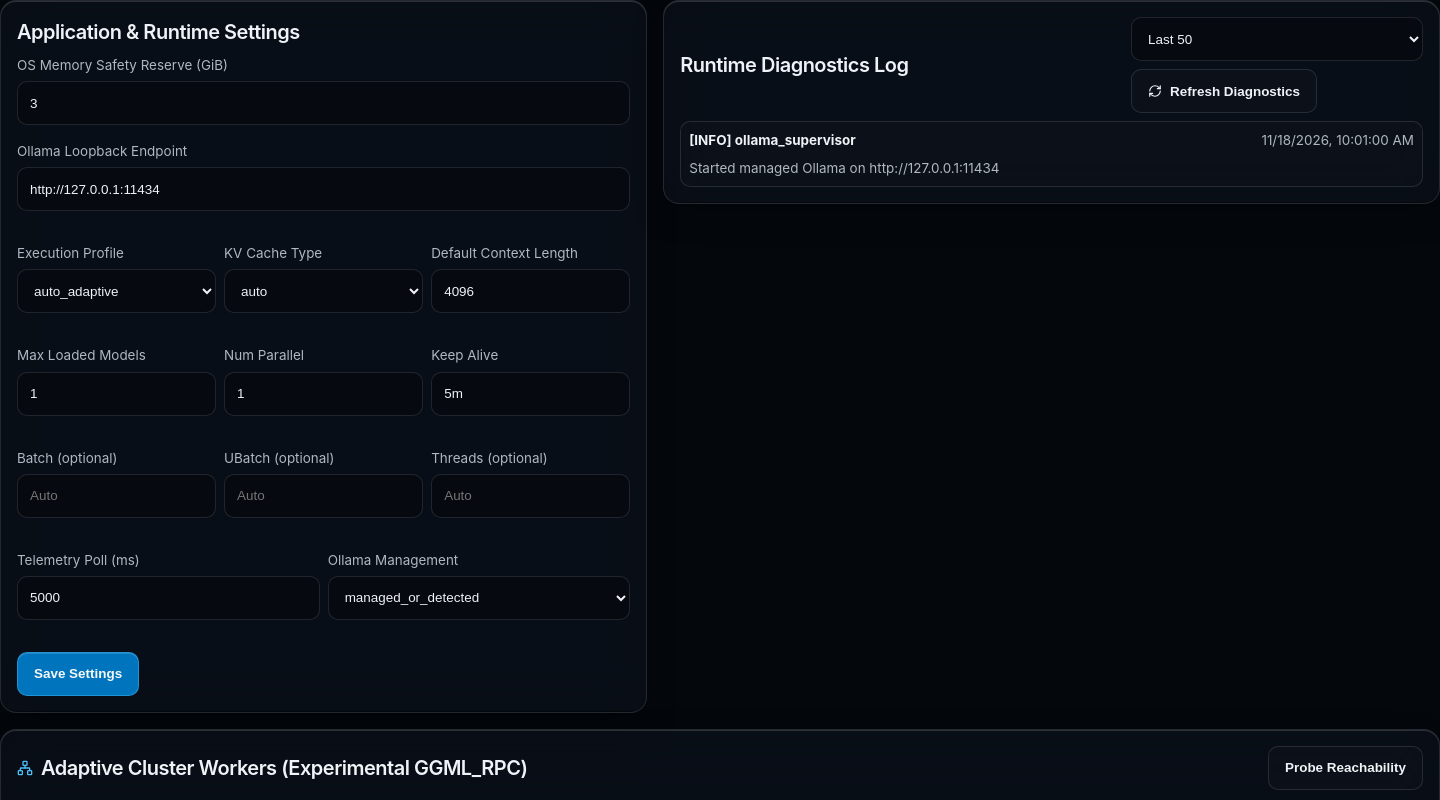
Test case: SettingsScreen › saves all 13 runtime settings, loads diagnostics with limit, and manages cluster workers
Later steps or results of the test are not shown.
Expected: the text "Started managed Ollama on http://127.0.0.1:11434" is shown, [689,160,1000,176]
Select "Last 100" in the dropdown named "Diagnostics limit" at (1277, 39), box [1131,17,1423,61]
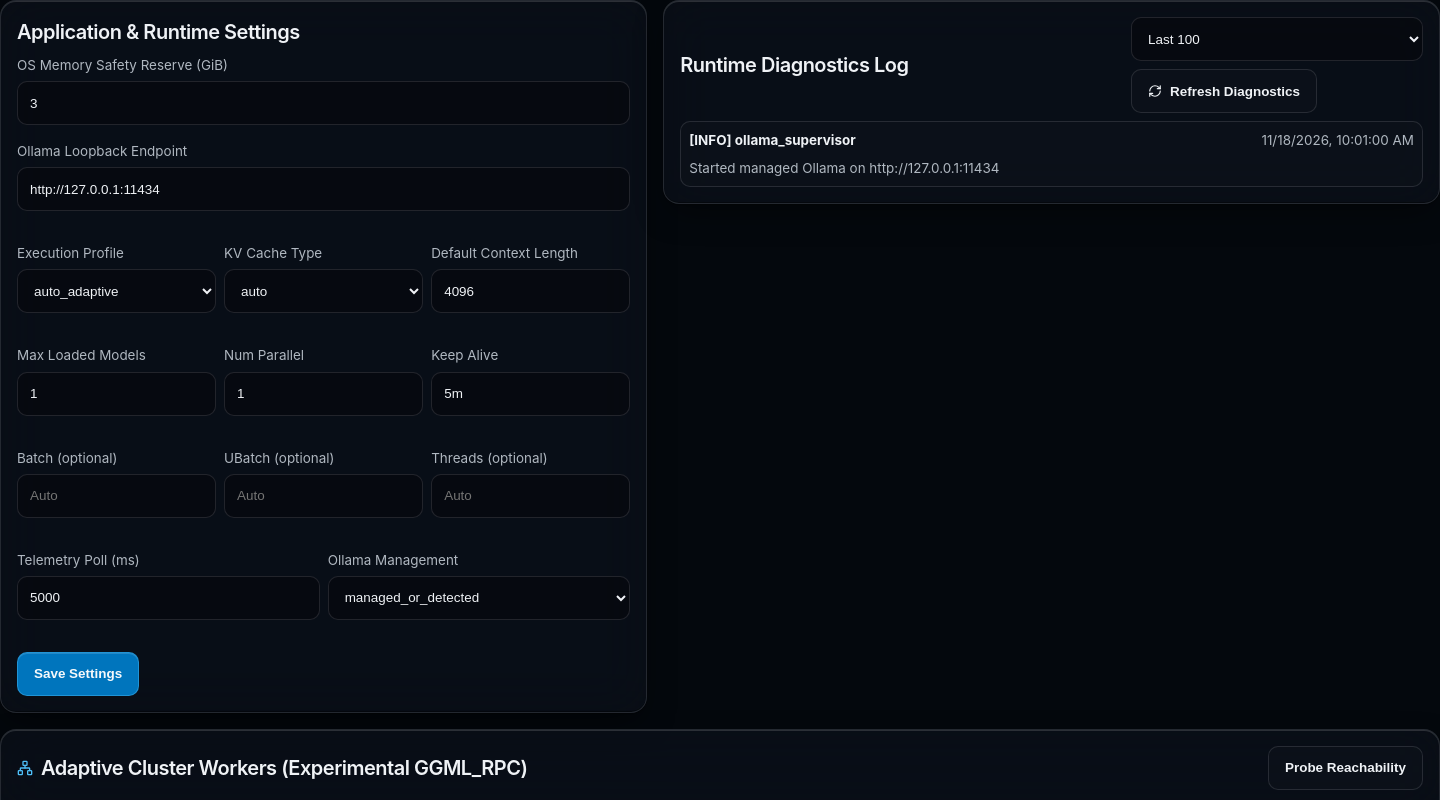
Replace the text in the number field labelled "OS Memory Safety Reserve (GiB)" with "4" at (324, 103), box [17,81,630,125]
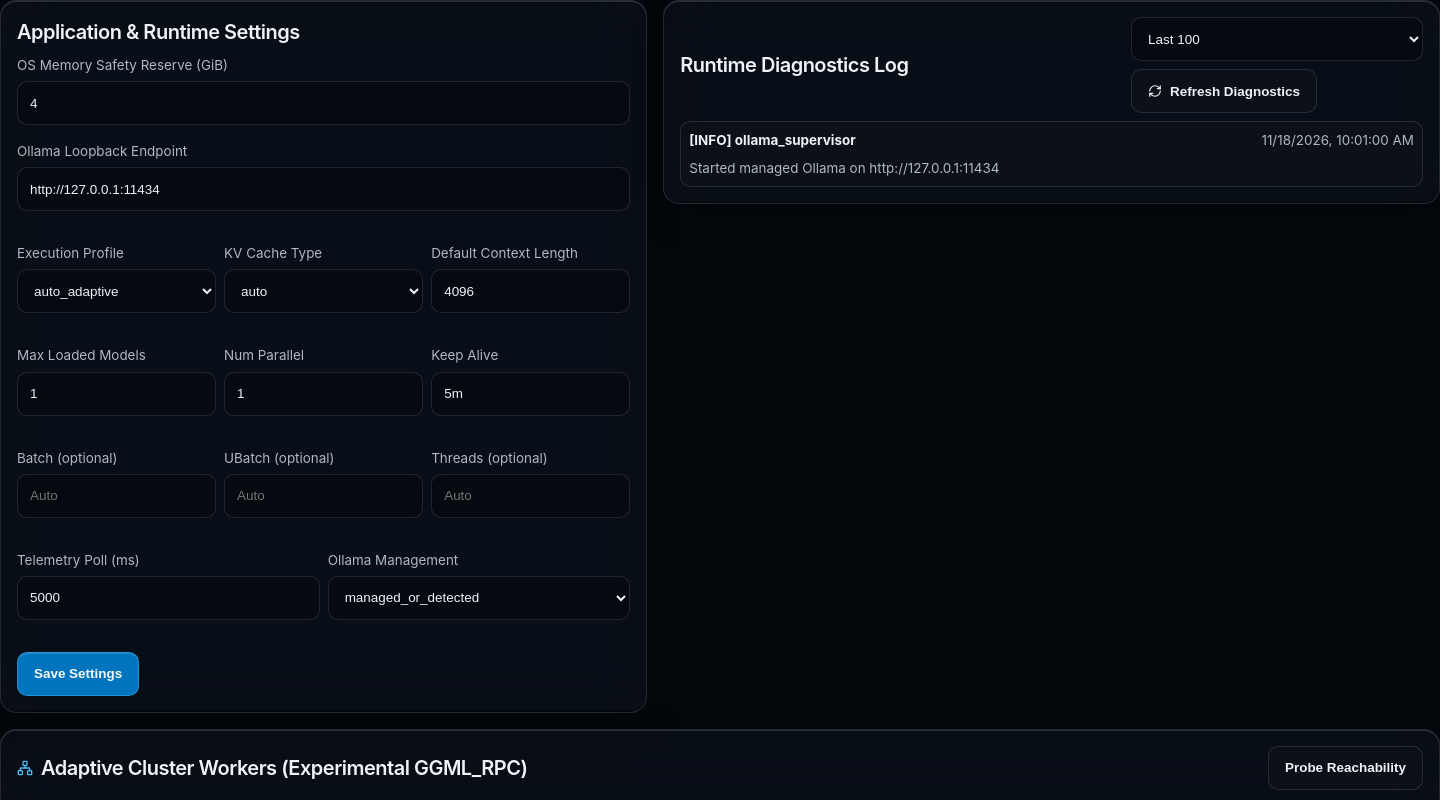
Click the button "Save Settings" at (78, 674), box [17,652,139,696]
(page scrolled)
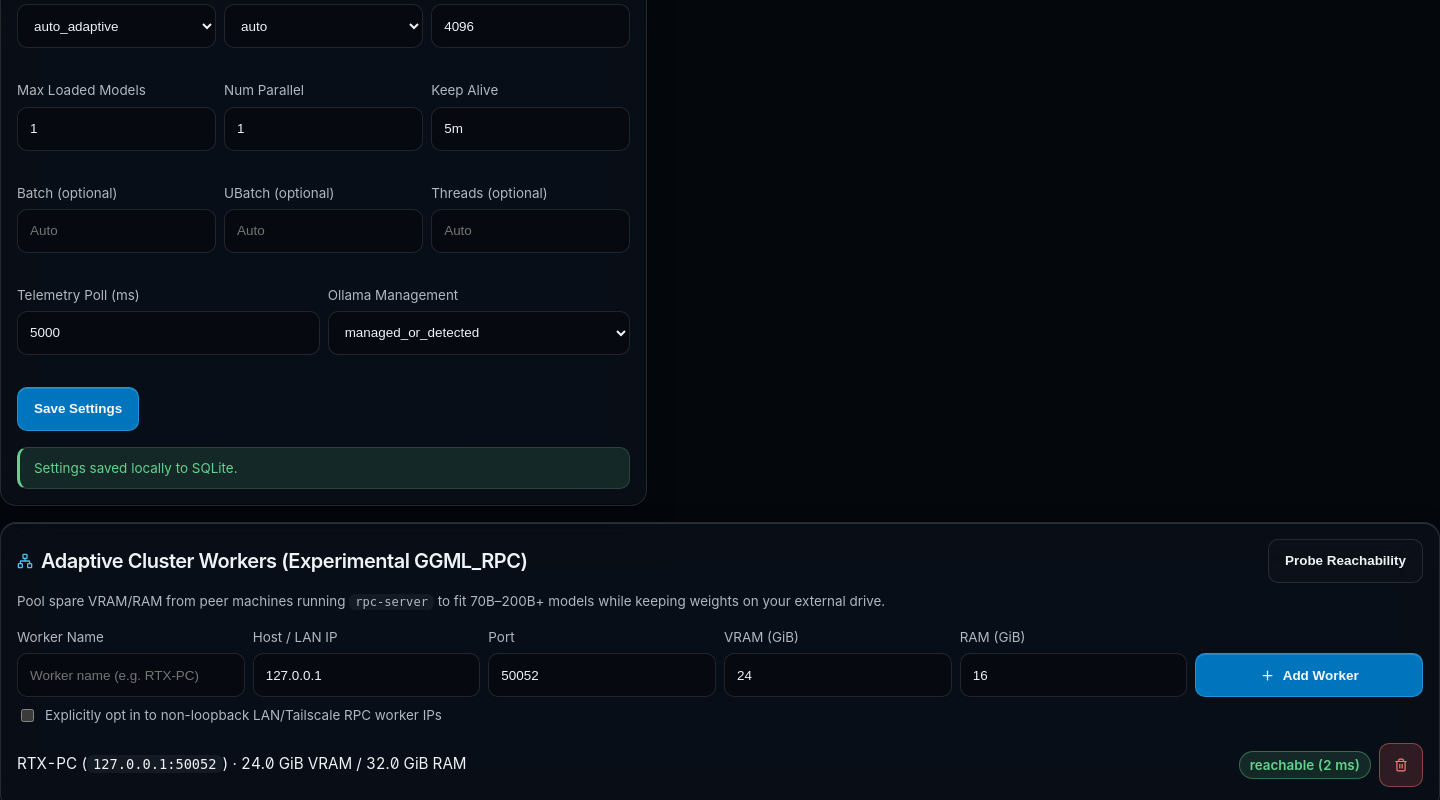
Expected: the text "Settings saved locally to SQLite." is shown, [17,447,630,489]
